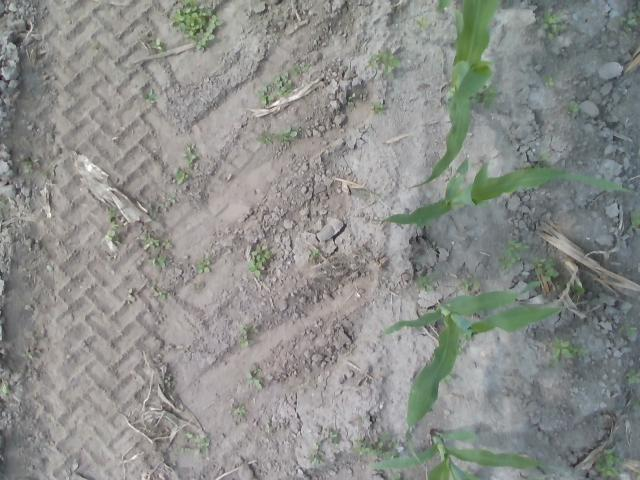Maize: (376, 275, 588, 470), (368, 158, 634, 228), (408, 0, 500, 189), (368, 428, 572, 480)
Weeds: (168, 0, 224, 52), (549, 336, 588, 368), (352, 432, 400, 458), (498, 237, 530, 270), (592, 445, 622, 480), (364, 49, 402, 74), (246, 244, 272, 276), (532, 255, 560, 282), (540, 11, 566, 40), (470, 83, 500, 108), (554, 278, 585, 296), (619, 10, 640, 36), (244, 364, 264, 390), (273, 73, 295, 96), (20, 154, 41, 176), (307, 442, 325, 466), (257, 83, 275, 106), (182, 144, 200, 166), (276, 126, 296, 145), (192, 434, 210, 455), (150, 280, 168, 300), (105, 206, 121, 228), (172, 166, 190, 184), (147, 252, 167, 268), (418, 274, 434, 292), (146, 36, 165, 51), (140, 234, 160, 248), (290, 62, 310, 76), (538, 152, 554, 169), (100, 230, 120, 243), (460, 279, 480, 292), (196, 258, 212, 274), (325, 428, 341, 444), (231, 403, 246, 420), (256, 132, 274, 146), (140, 88, 158, 102), (625, 368, 640, 384), (619, 323, 637, 336), (630, 206, 640, 228), (372, 100, 388, 112), (239, 324, 258, 334), (417, 16, 430, 30), (564, 102, 579, 114), (0, 380, 11, 396), (148, 207, 158, 221), (20, 350, 35, 359), (161, 238, 172, 250), (544, 75, 556, 86), (439, 373, 452, 383), (237, 338, 250, 348), (348, 92, 356, 108), (166, 193, 176, 205), (427, 241, 439, 251), (390, 471, 403, 480), (522, 162, 541, 168), (175, 446, 190, 453), (310, 248, 320, 258), (461, 467, 472, 476), (633, 397, 640, 411), (456, 343, 464, 355), (180, 432, 192, 440), (165, 376, 172, 388), (635, 466, 640, 480), (0, 199, 6, 207), (106, 253, 112, 260), (45, 169, 50, 176)
